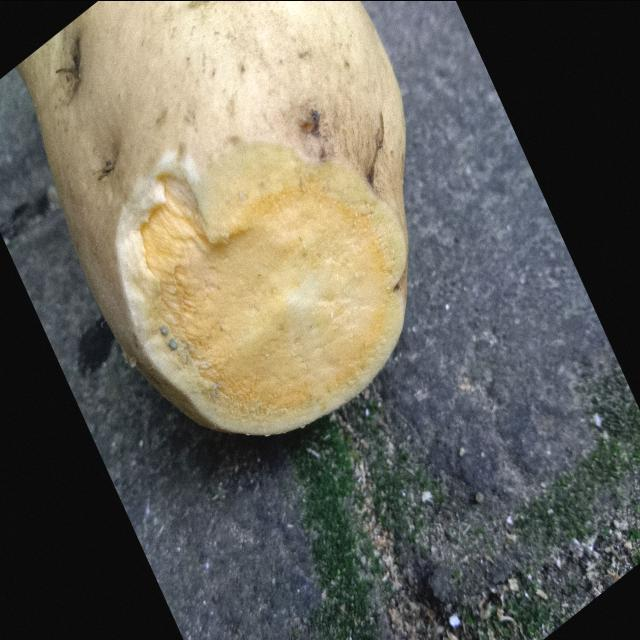Healthy Sweet Potato: (116, 143, 408, 433)
